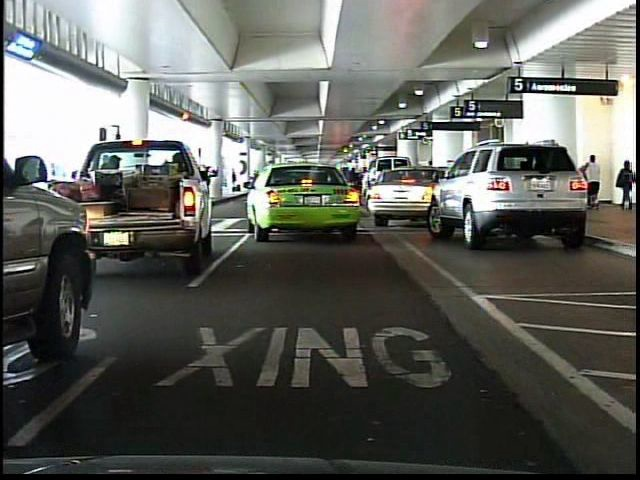person: (587, 151, 606, 213), (617, 158, 636, 215)
